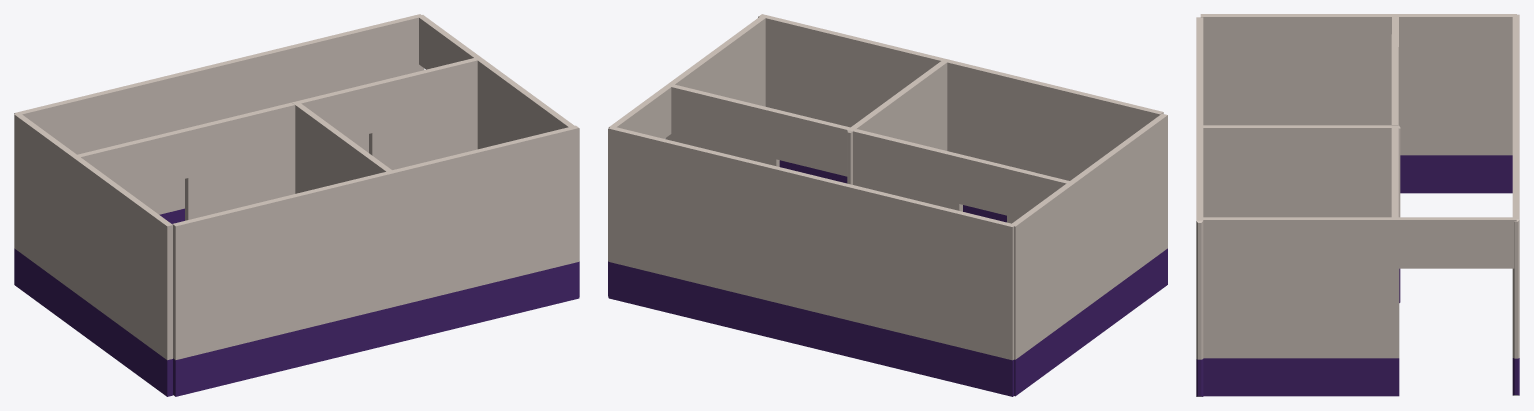
File: toilet room (office).fbx
The picture shows the model from 3 angles, left to right: view 1: azimuth 30°, elevation 25°; view 2: azimuth 150°, elevation 25°; view 3: azimuth 270°, elevation 25°; orthographic projection. The views are drawn at different scales.
Visible parts, largest first — view 1: polySurface8, polySurface10, polySurface9, polySurface14, polySurface13, polySurface11, polySurface12, polySurface15; view 2: polySurface9, polySurface8, polySurface10, polySurface13, polySurface14, polySurface11, polySurface12, polySurface15; view 3: polySurface10, polySurface11, polySurface12, polySurface8, polySurface9, polySurface14, polySurface13.
Boxes of the visible parts, left/top/right/bottom form: polySurface8: left=172, top=125, right=579, bottom=396; polySurface10: left=14, top=114, right=172, bottom=396; polySurface9: left=14, top=14, right=424, bottom=223; polySurface14: left=115, top=102, right=295, bottom=220; polySurface13: left=296, top=57, right=478, bottom=169; polySurface11: left=419, top=15, right=574, bottom=149; polySurface12: left=292, top=101, right=391, bottom=193; polySurface15: left=77, top=140, right=140, bottom=200; polySurface9: left=608, top=126, right=1015, bottom=396; polySurface8: left=758, top=14, right=1163, bottom=222; polySurface10: left=1010, top=113, right=1167, bottom=396; polySurface13: left=670, top=84, right=851, bottom=176; polySurface14: left=853, top=129, right=1034, bottom=215; polySurface11: left=608, top=17, right=765, bottom=140; polySurface12: left=847, top=61, right=947, bottom=184; polySurface15: left=1007, top=168, right=1069, bottom=223; polySurface10: left=1200, top=14, right=1516, bottom=193; polySurface11: left=1200, top=217, right=1516, bottom=396; polySurface12: left=1203, top=125, right=1400, bottom=302; polySurface8: left=1196, top=17, right=1203, bottom=396; polySurface9: left=1512, top=14, right=1519, bottom=395; polySurface14: left=1391, top=34, right=1398, bottom=125; polySurface13: left=1391, top=127, right=1398, bottom=217.
Bounding box in the file's own units: 21967 × 8706 × 14480.
